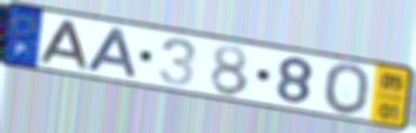3: (158, 36, 199, 87)
8: (207, 42, 254, 97), (274, 56, 316, 107)
A: (84, 25, 140, 81), (37, 18, 91, 72)
O: (323, 61, 373, 118)
